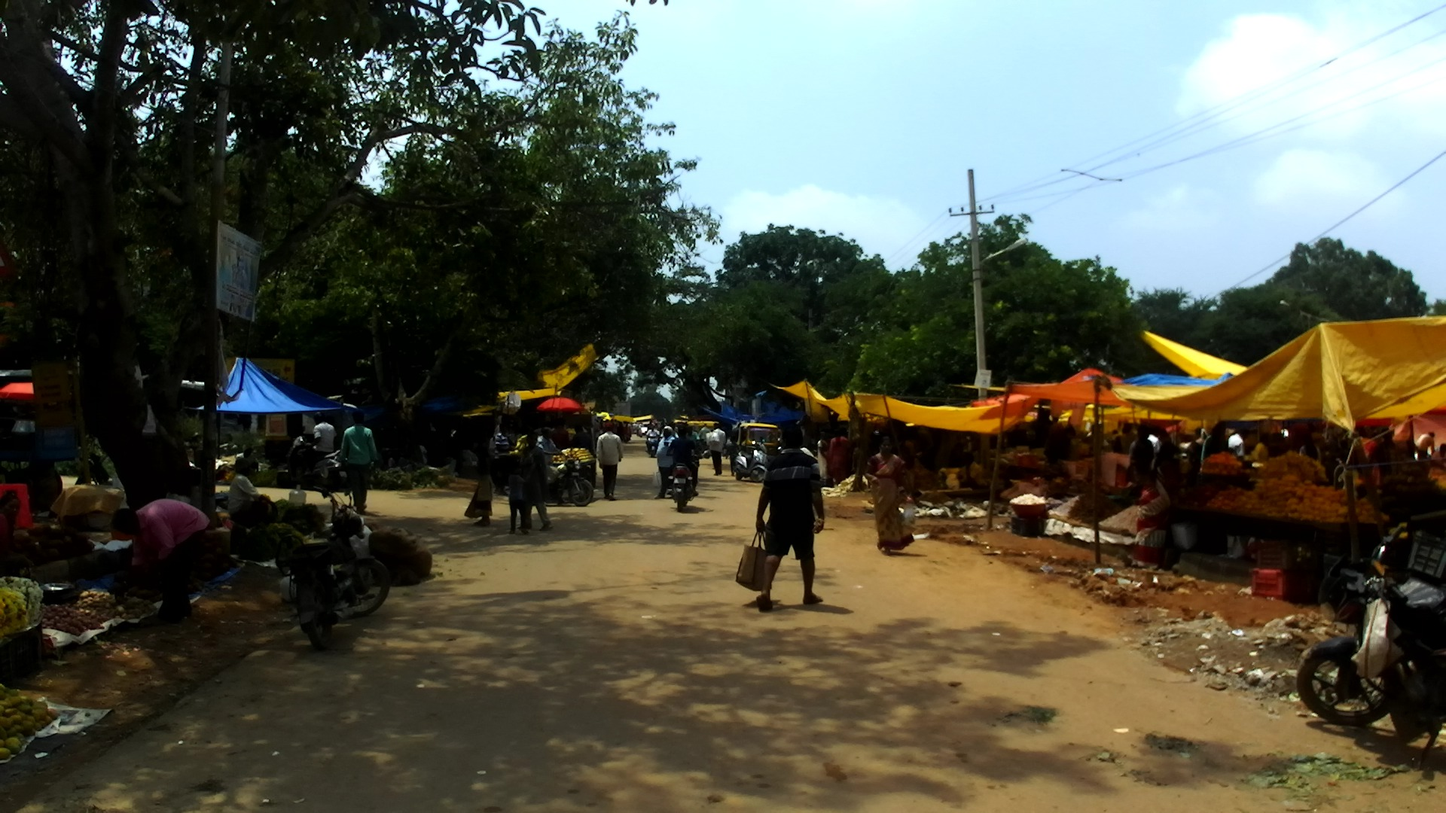autorickshaw: (737, 422, 779, 463), (700, 421, 717, 433), (687, 421, 699, 431)
car: (639, 422, 655, 435)
motorcycle: (1295, 524, 1446, 775), (273, 489, 392, 650), (276, 425, 348, 489), (547, 452, 594, 507), (666, 454, 700, 513), (733, 438, 772, 483), (72, 458, 110, 486), (644, 434, 660, 458), (702, 449, 712, 459)
person: (754, 423, 826, 614), (110, 498, 211, 623), (1130, 442, 1182, 570), (864, 437, 916, 556), (339, 411, 379, 513), (517, 431, 554, 531), (226, 459, 278, 527), (0, 489, 35, 580), (1124, 423, 1155, 509), (464, 445, 494, 528), (596, 425, 624, 501), (1363, 426, 1402, 479), (1183, 425, 1210, 489), (655, 426, 676, 499), (1041, 414, 1068, 468), (508, 464, 528, 534), (1201, 420, 1230, 467), (826, 430, 850, 482), (494, 422, 510, 496), (817, 431, 834, 488), (1297, 429, 1323, 464), (1227, 424, 1249, 465), (1112, 422, 1138, 456), (1249, 431, 1273, 467), (569, 425, 595, 458), (710, 422, 725, 476), (1415, 430, 1438, 460), (236, 445, 260, 473), (725, 434, 740, 477), (549, 417, 569, 449), (1085, 422, 1100, 458), (1146, 425, 1160, 458), (1429, 441, 1446, 468), (488, 434, 496, 483), (414, 442, 430, 465), (660, 422, 680, 439), (700, 422, 710, 452), (685, 425, 700, 444), (1106, 428, 1120, 448), (730, 422, 742, 443), (623, 421, 628, 443), (617, 422, 623, 440), (670, 422, 679, 434), (593, 418, 600, 433), (493, 424, 500, 437), (627, 422, 632, 440), (614, 419, 620, 434), (610, 419, 616, 434), (647, 420, 654, 431), (632, 422, 638, 434), (605, 419, 610, 432), (660, 418, 667, 427), (599, 419, 604, 429)
rider: (295, 410, 339, 477), (535, 427, 566, 506), (667, 426, 700, 497), (645, 425, 660, 444), (505, 430, 516, 450)
